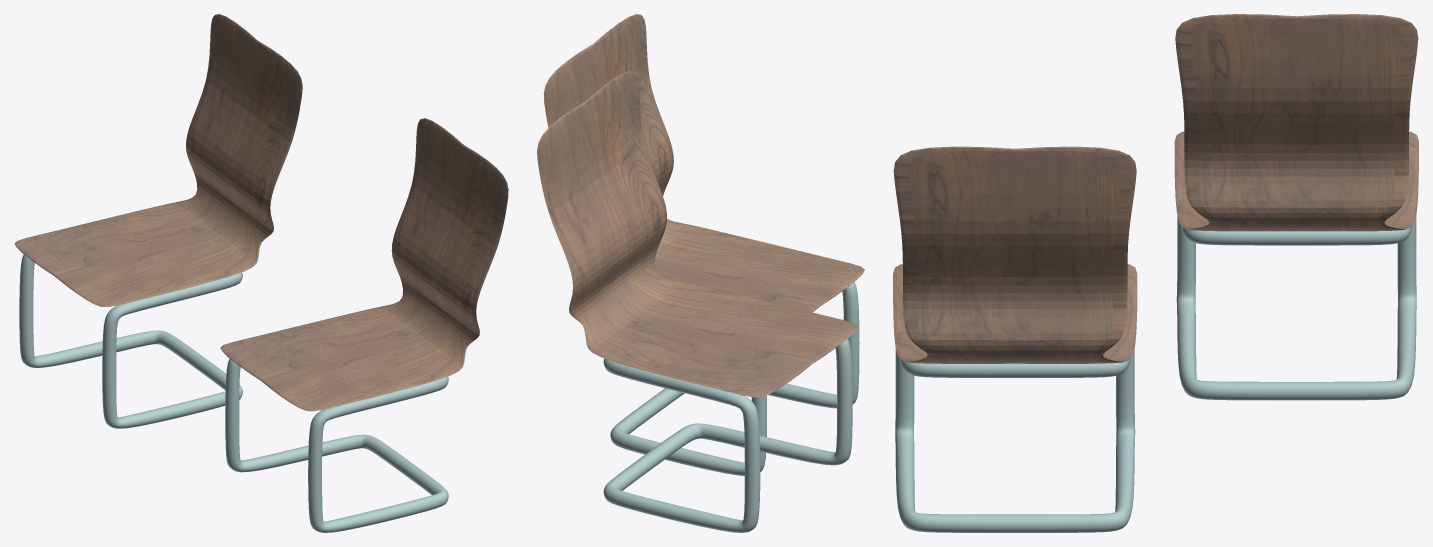
Rendered from chair_12.fbx.
3 views of the same model, side by side, from view 1: azimuth 30°, elevation 25°; view 2: azimuth 150°, elevation 25°; view 3: azimuth 270°, elevation 25° (orthographic). The views are drawn at different scales.
Visible parts, largest first — view 1: chair.001, chair; view 2: chair, chair.001; view 3: chair, chair.001.
Part boxes in pixels (x1,y1,x2,y2): chair.001: (220,118,508,532); chair: (14,14,302,428); chair: (537,71,857,532); chair.001: (543,14,864,475); chair: (1174,14,1418,400); chair.001: (893,146,1137,532).
Bounding box in the file's own units: 1058 × 1219 × 1186.
